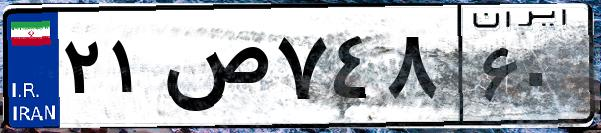0: (525, 38, 570, 115)
1: (110, 28, 158, 98)
2: (57, 26, 110, 100)
4: (330, 28, 385, 110)
6: (475, 38, 525, 113)
7: (270, 28, 330, 110)
8: (385, 28, 445, 110)
ص: (158, 20, 270, 120)
